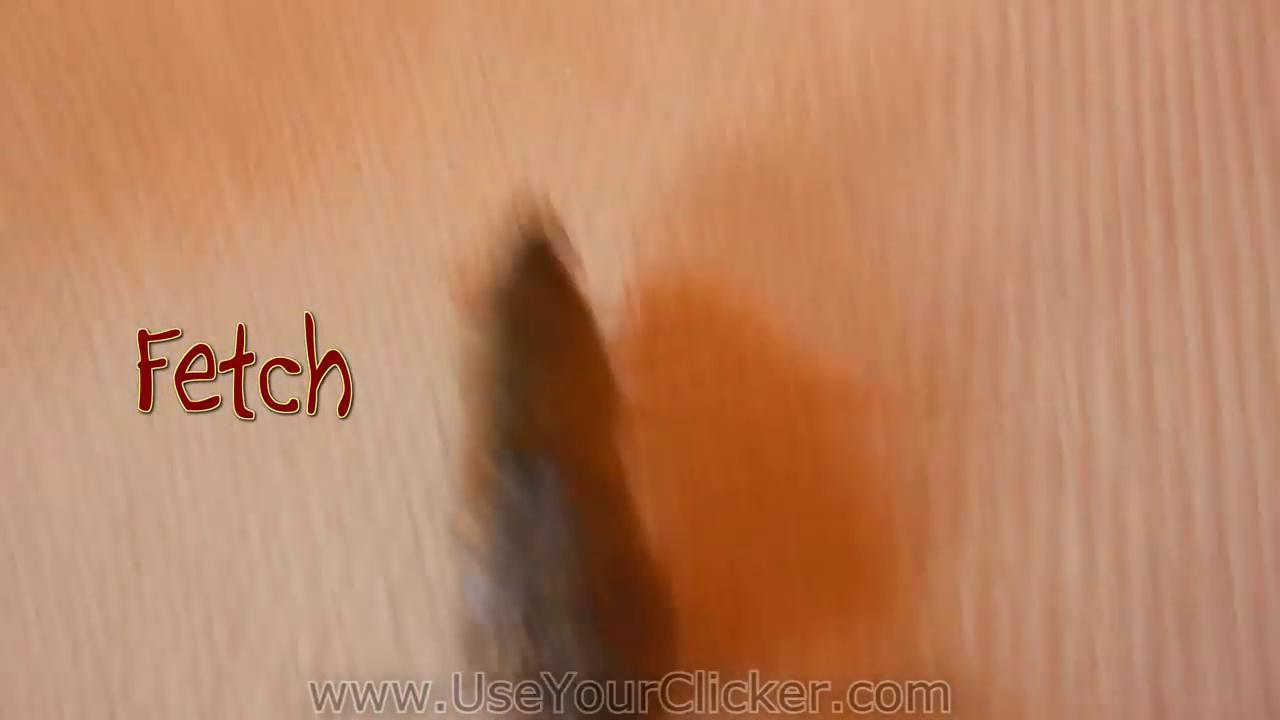rat: (461, 202, 674, 720)
